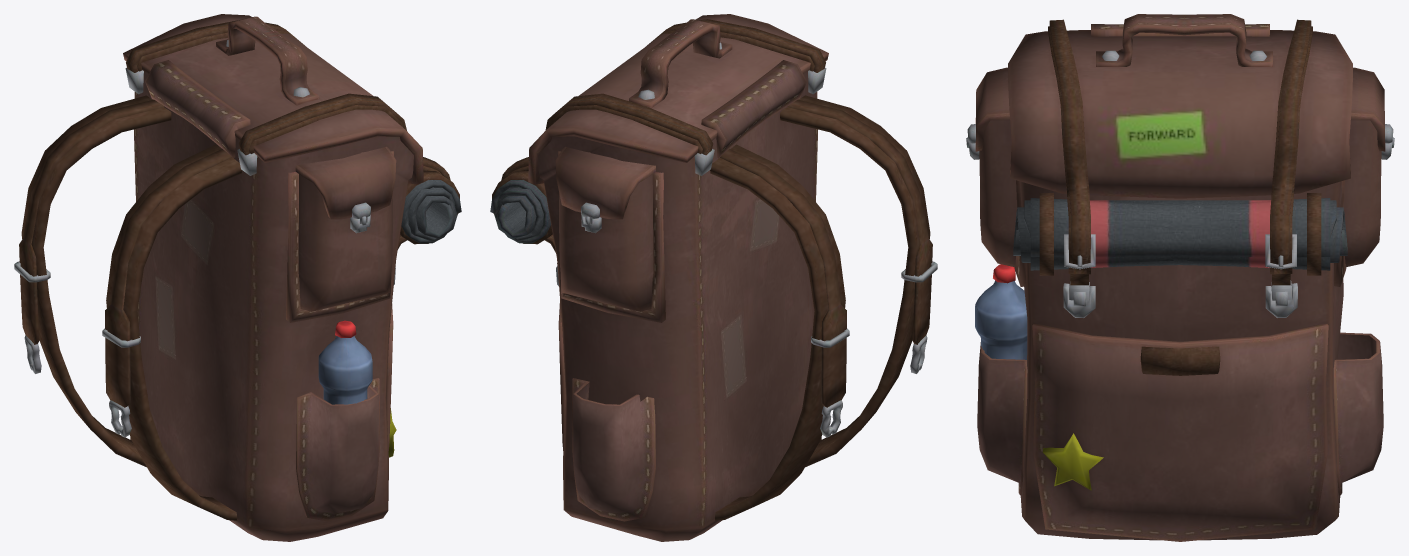
Rendered from Backpack_low-poly.glb.
3 renders of one model, left to right at view 1: azimuth 30°, elevation 25°; view 2: azimuth 150°, elevation 25°; view 3: azimuth 270°, elevation 25°, orthographic. The views are drawn at different scales.
Size of the model in its own units: 348 by 443 by 344.
Materials: 1 (1 with a texture image).
